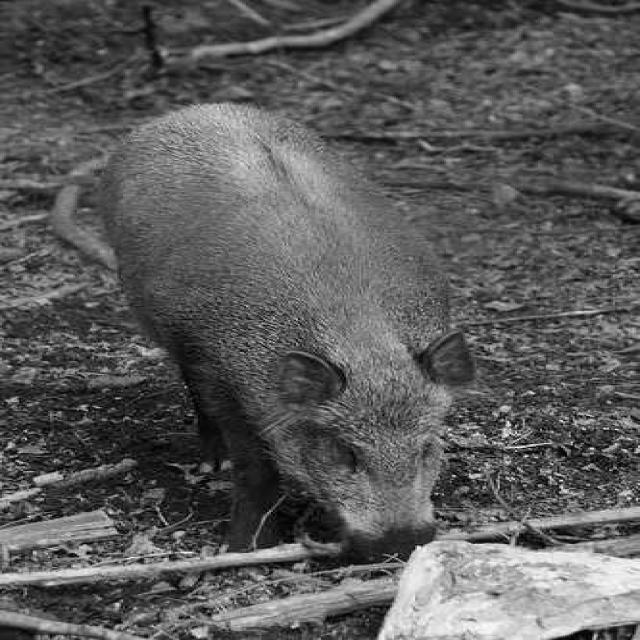boar: (106, 104, 473, 560)
